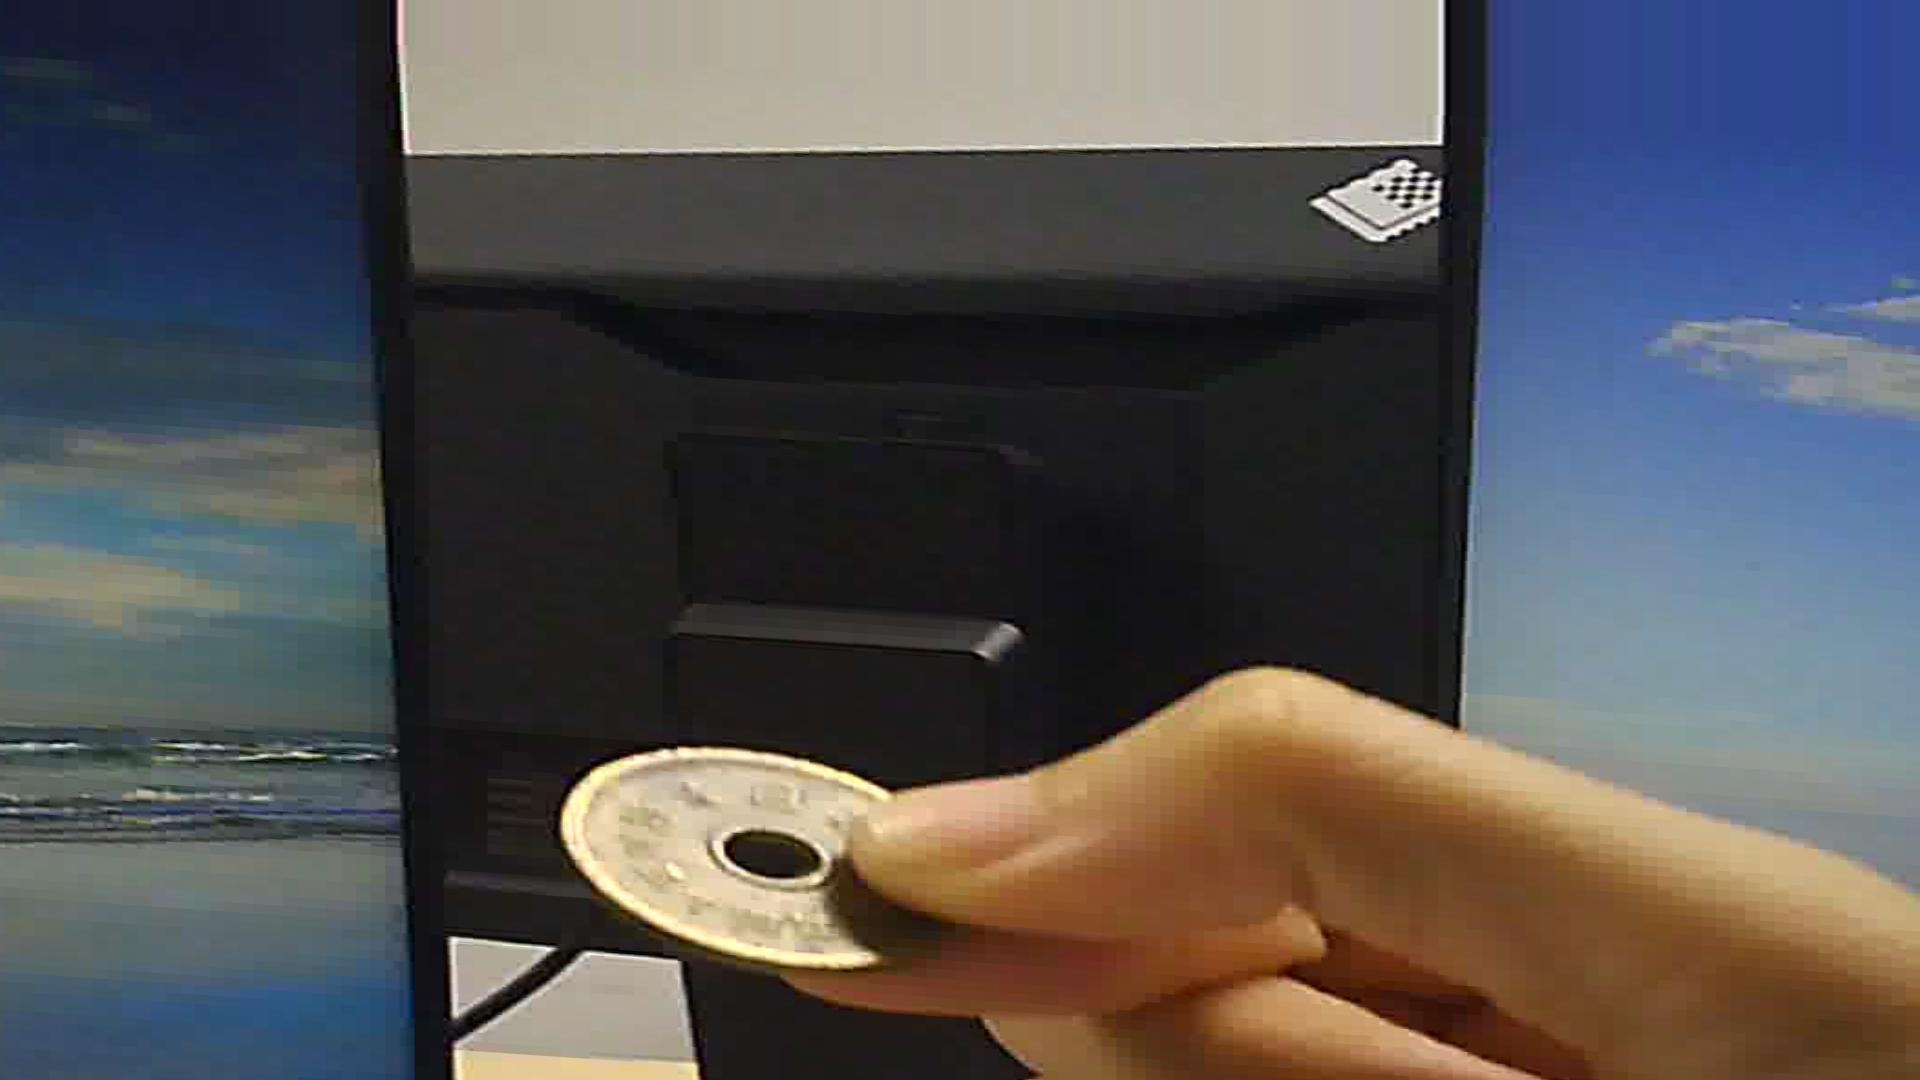5 Yen: (550, 735, 949, 972)
